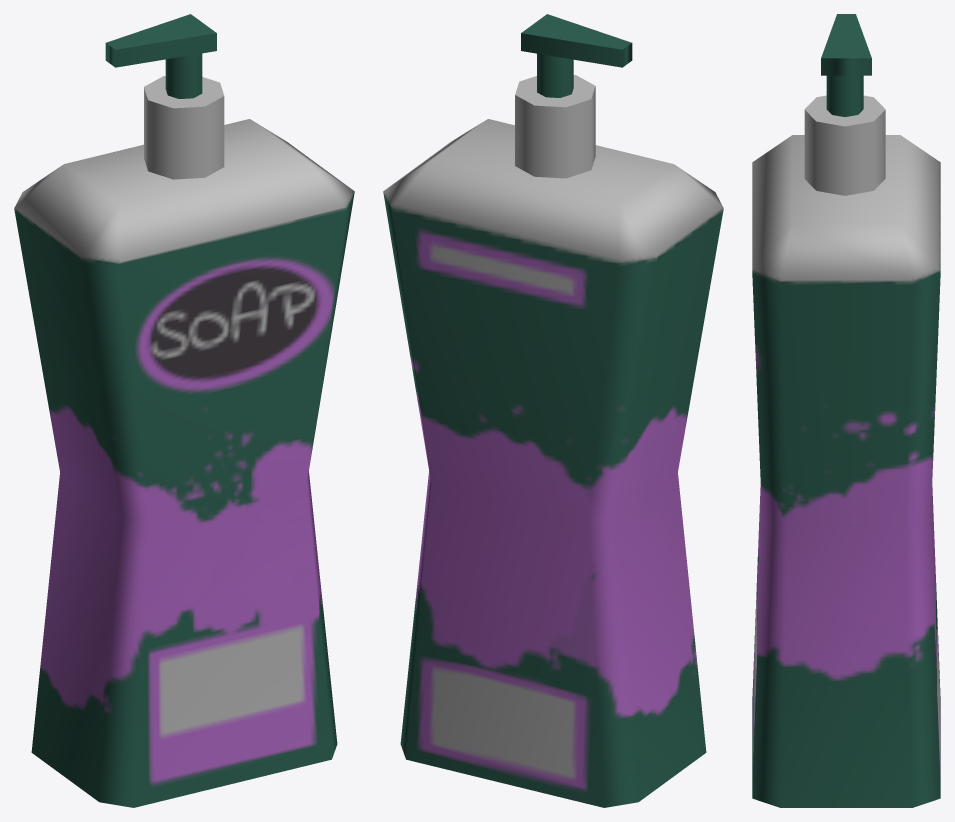
Rendered from Cleaners_03.fbx.
3 views of the same model, side by side, from view 1: azimuth 30°, elevation 25°; view 2: azimuth 150°, elevation 25°; view 3: azimuth 270°, elevation 25° (orthographic). The views are drawn at different scales.
Parts seen in each view (by area): view 1: Cleaners_03; view 2: Cleaners_03; view 3: Cleaners_03.
Boxes of the visible parts, x1,y1,x2,y2 form: Cleaners_03: (14, 14, 354, 807); Cleaners_03: (383, 14, 723, 807); Cleaners_03: (752, 14, 940, 807).
Bounding box in the file's own units: 12.54 × 31.62 × 7.7.
